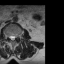CCS_normal: (11, 33, 13, 43)
LFS_stenosis: (15, 33, 17, 39)
LLS_normal: (13, 33, 15, 41)
RFS_normal: (7, 33, 9, 39)
RLS_normal: (9, 34, 11, 41)
